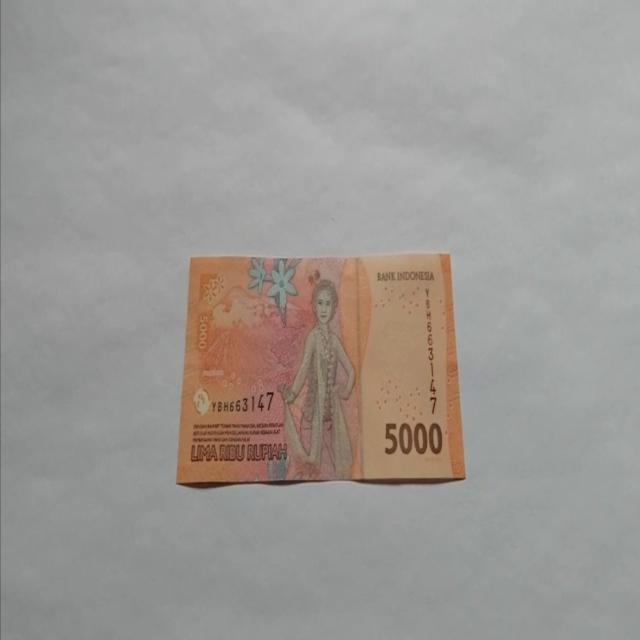lima ribu rupiah: (176, 251, 467, 487), (276, 277, 356, 480)
